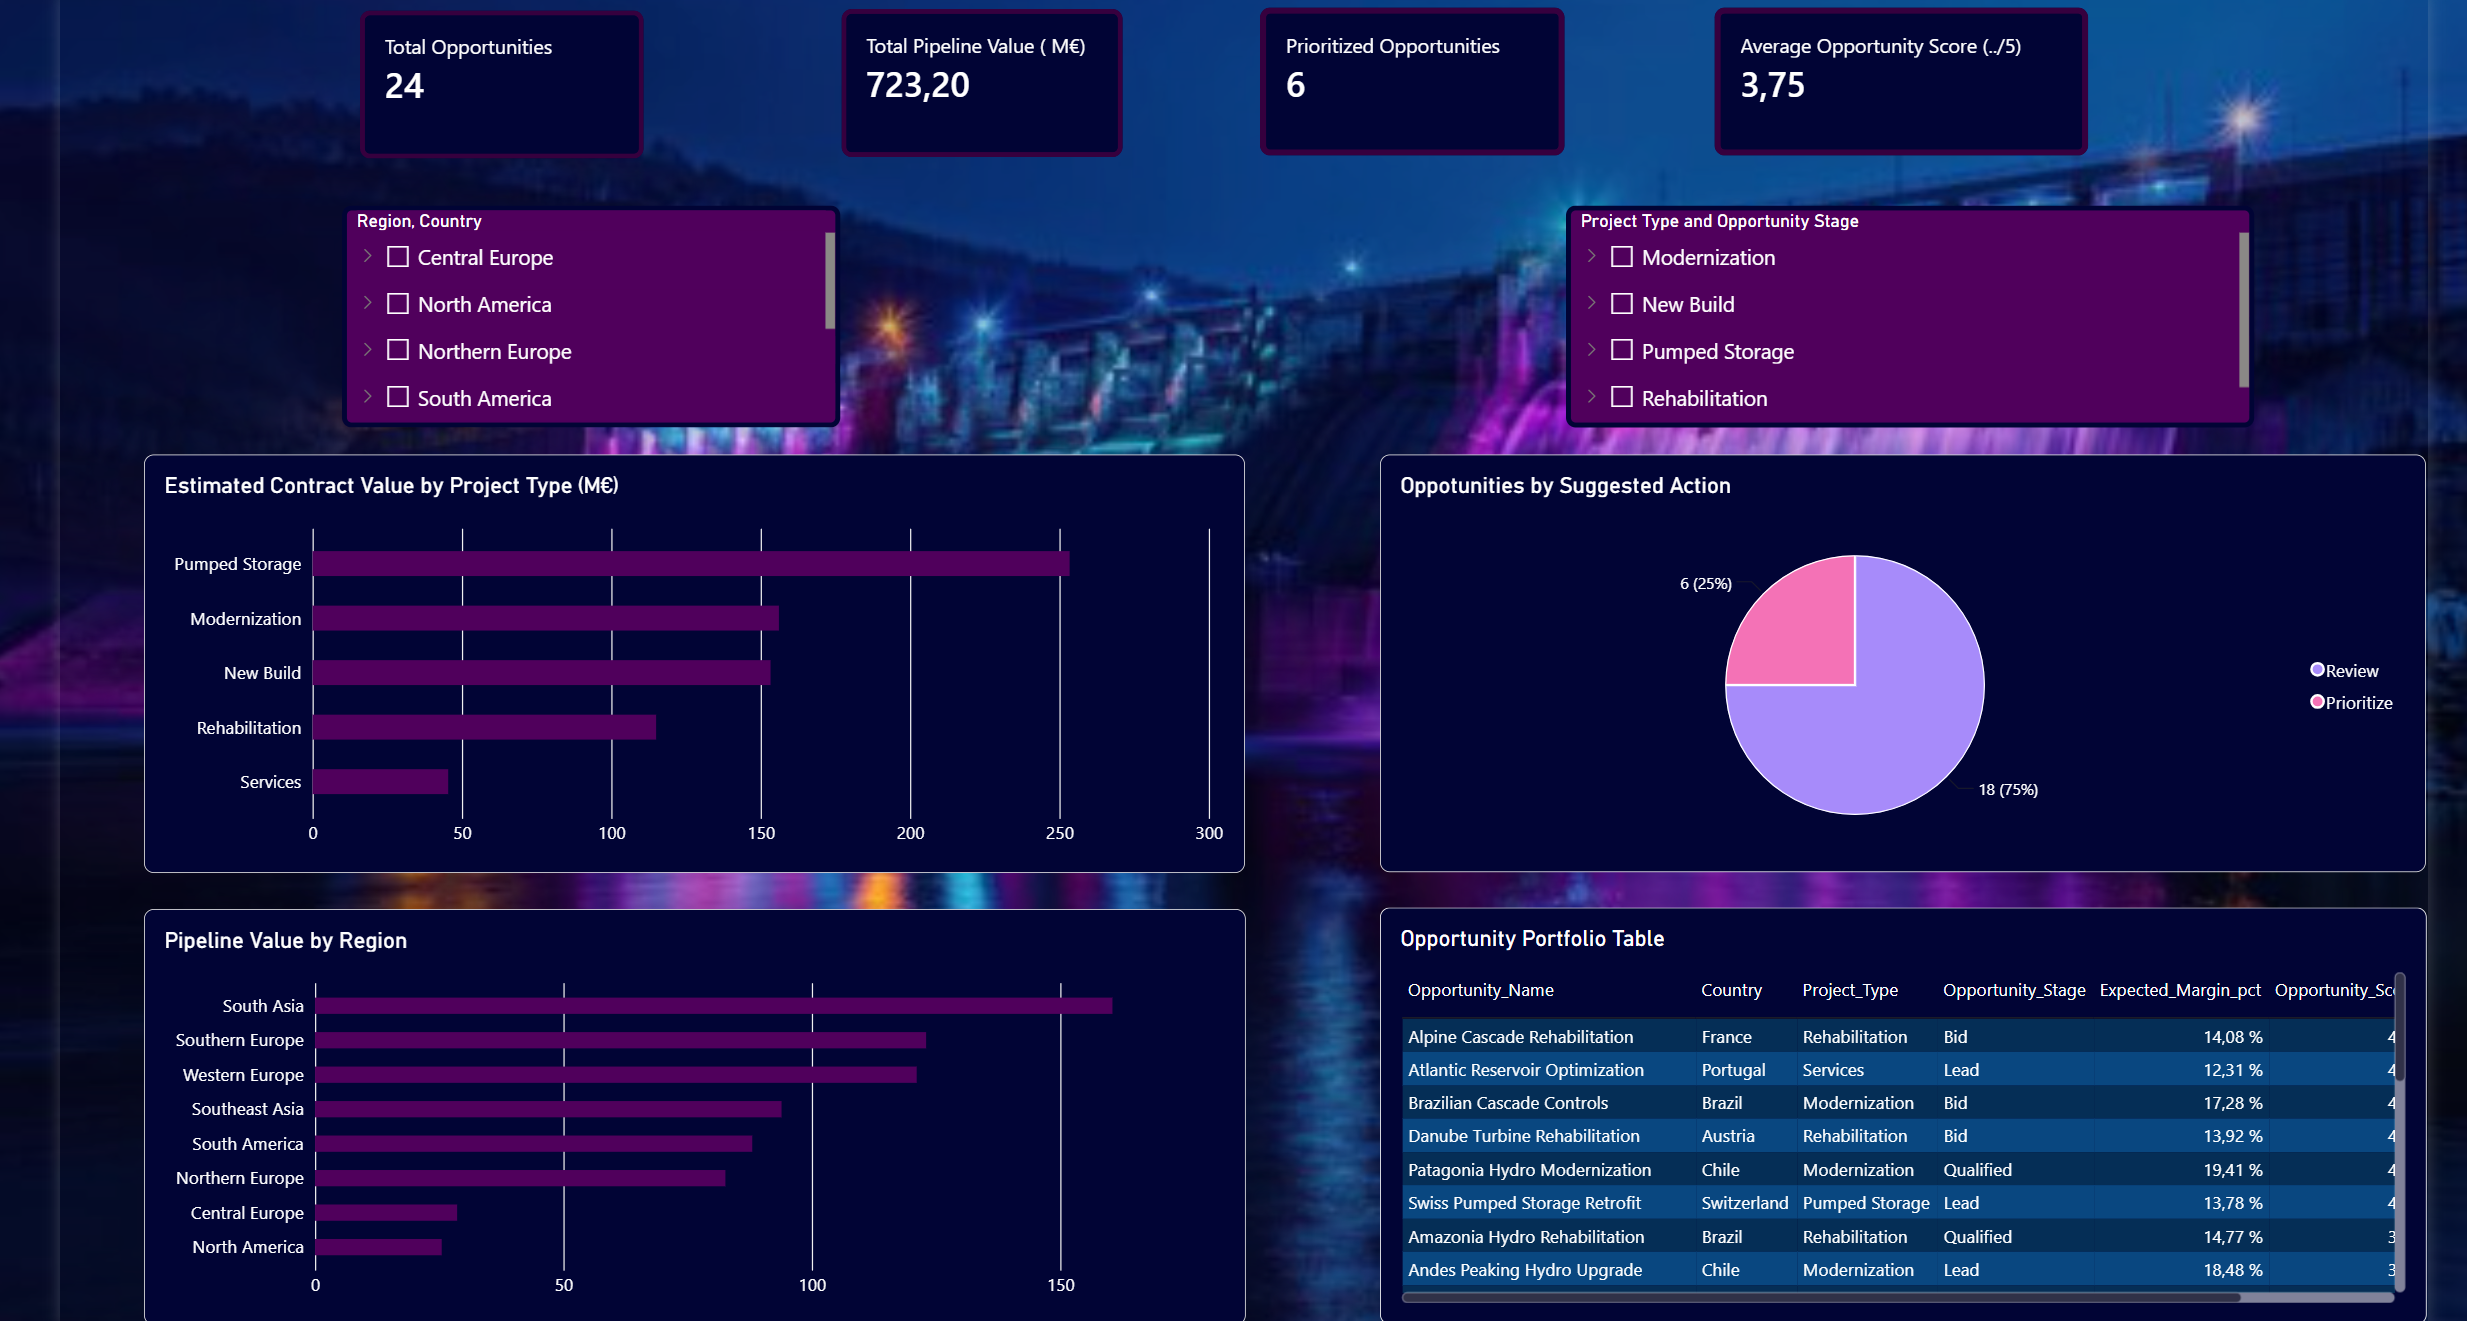

The page's visual inventory and layout, read from the dashboard file:
{"tool":"powerbi","page":{"name":" Executive Overview","canvas":[1920,1080],"ordinal":0},"visuals":[{"type":"barChart","title":"Estimated Contract Value by Project Type (M€)","fields":{"Category":["Opportunities.Project_Type"],"Y":["Sum(Opportunities.Estimated_Contract_Value_MEUR)"]},"box":[67.9,373.2,892.7,339.3],"z":0},{"type":"pieChart","title":"Opportunities by Suggested Action","fields":{"Category":["OpportunitiesTable.Suggested_Action"],"Y":["CountNonNull(OpportunitiesTable.Opportunity_ID)"]},"box":[1071.1,373.9,848.7,339.1],"z":1000},{"type":"barChart","title":"Pipeline Value by Region","fields":{"Category":["OpportunitiesTable.Region"],"Y":["OpportunitiesTable.Total Pipeline Value"]},"box":[67.9,742.2,892.7,313.8],"z":2000},{"type":"tableEx","title":"Opportunity Portfolio Table","fields":{"Values":["OpportunitiesTable.Opportunity_Name","OpportunitiesTable.Country","OpportunitiesTable.Project_Type","OpportunitiesTable.Opportunity_Stage","OpportunitiesTable.Expected_Margin_pct","OpportunitiesTable.Opportunity_Score","OpportunitiesTable.Suggested_Action"]},"box":[1071.1,741.4,848.7,313.9],"z":3000},{"type":"slicer","fields":{"Values":["OpportunitiesTable.Region","OpportunitiesTable.Country"]},"box":[229.2,171.5,404.2,180],"z":4000},{"type":"slicer","fields":{"Values":["OpportunitiesTable.Project_Type","OpportunitiesTable.Opportunity_Stage"]},"box":[1221.4,171.8,557.7,180.2],"z":5000},{"type":"cardVisual","fields":{"Data":["OpportunitiesTable.Total Opportunities"]},"box":[243.4,12.9,230.6,120],"z":6000},{"type":"cardVisual","fields":{"Data":["OpportunitiesTable.Total Pipeline Value"]},"box":[634,12.7,228.8,120],"z":7000},{"type":"cardVisual","fields":{"Data":["OpportunitiesTable.Prioritize Opportunities"]},"box":[973.3,10.6,247.5,120],"z":8000},{"type":"cardVisual","fields":{"Data":["OpportunitiesTable.Average Opportunity Score"]},"box":[1332.9,12.6,303.8,120],"z":9000}]}

Visuals, with their boxes on the page's 1920x1080 design canvas (x1, y1, x2, y2). These are canvas units, not pixel positions in the 2467x1321 screenshot, which may show the page scaled, cropped or inside an application window:
"Estimated Contract Value by Project Type (M€)" barChart: box=[68, 373, 961, 712]
"Opportunities by Suggested Action" pieChart: box=[1071, 374, 1920, 713]
"Pipeline Value by Region" barChart: box=[68, 742, 961, 1056]
"Opportunity Portfolio Table" tableEx: box=[1071, 741, 1920, 1055]
slicer - OpportunitiesTable.Region x OpportunitiesTable.Country: box=[229, 172, 633, 352]
slicer - OpportunitiesTable.Project_Type x OpportunitiesTable.Opportunity_Stage: box=[1221, 172, 1779, 352]
cardVisual - OpportunitiesTable.Total Opportunities: box=[243, 13, 474, 133]
cardVisual - OpportunitiesTable.Total Pipeline Value: box=[634, 13, 863, 133]
cardVisual - OpportunitiesTable.Prioritize Opportunities: box=[973, 11, 1221, 131]
cardVisual - OpportunitiesTable.Average Opportunity Score: box=[1333, 13, 1637, 133]
